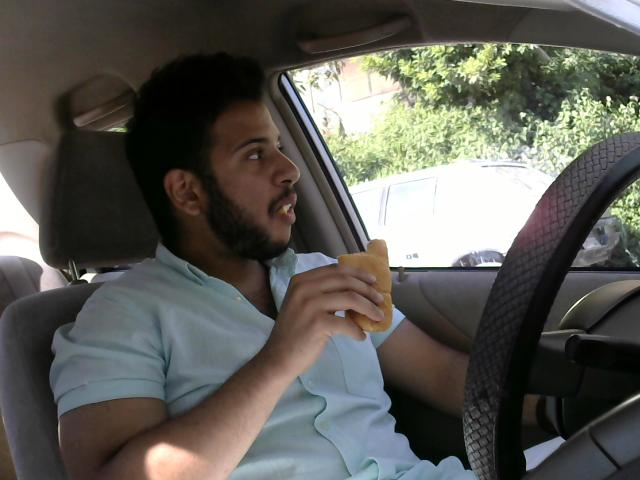Eating: (329, 233, 397, 340)
